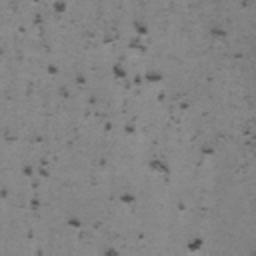Oxide scale of temperature system: (0, 20, 243, 256), (18, 0, 68, 33), (243, 129, 256, 146), (200, 143, 216, 155), (241, 0, 250, 8)
